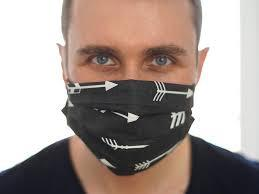Wearing Mask: (56, 21, 211, 180)
